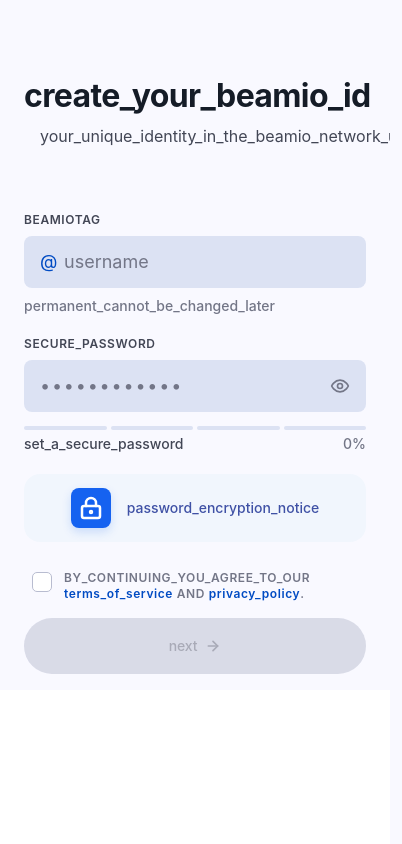
Scenario: browser branch: every failed attempt shows its error › 0.53.48.1: a registered account whose local save failed still closes with the recovery code and tells the user to save it
This screenshot has width=402, height=844.
Later steps or results of the test are not shown.
In the field with id "create-beamio-tag-input": (195, 262) [24, 236, 366, 288], type "synthtag01"
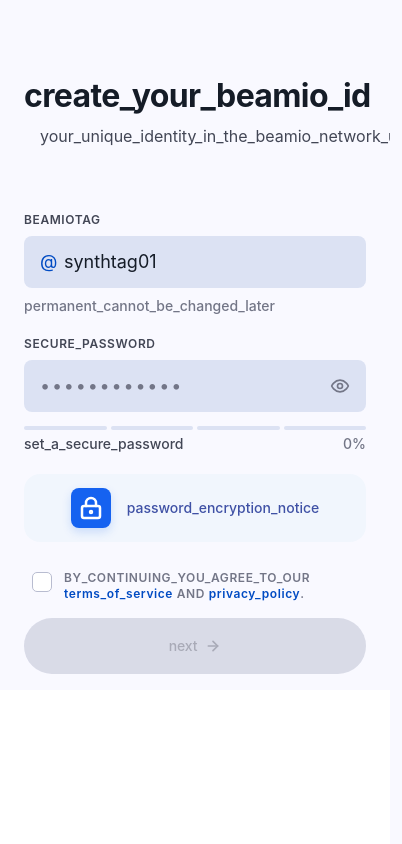
In the password field with id "create-wallet-password": (195, 386) [24, 360, 366, 412], type "Abcdefg1"
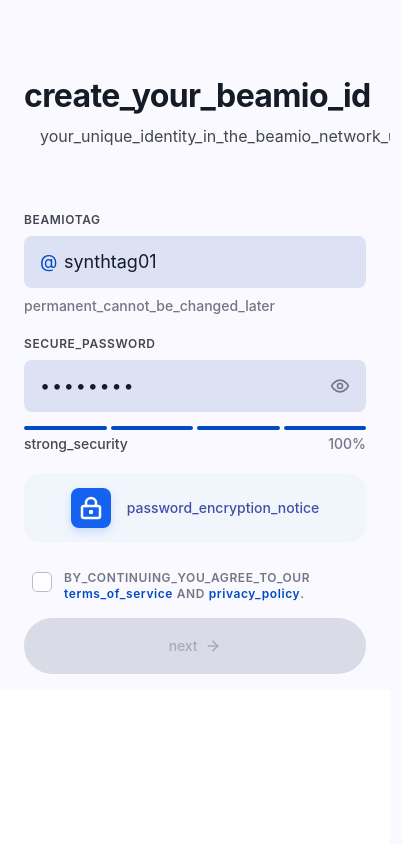
Click the checkbox: (42, 582) [32, 572, 52, 592]
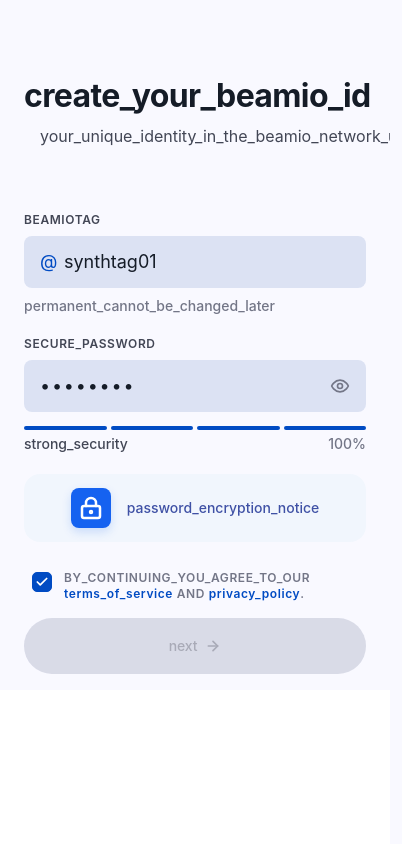
Leave the field with id "create-beamio-tag-input", box [24, 236, 366, 288]
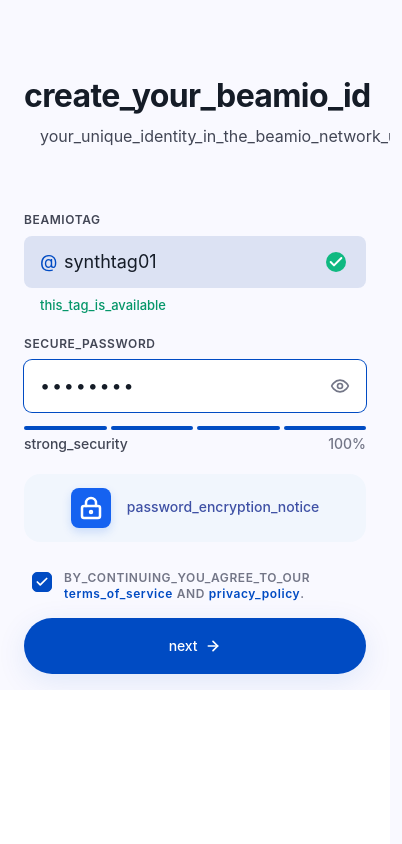
Expected: the button "next" is enabled, [24, 618, 366, 674]
